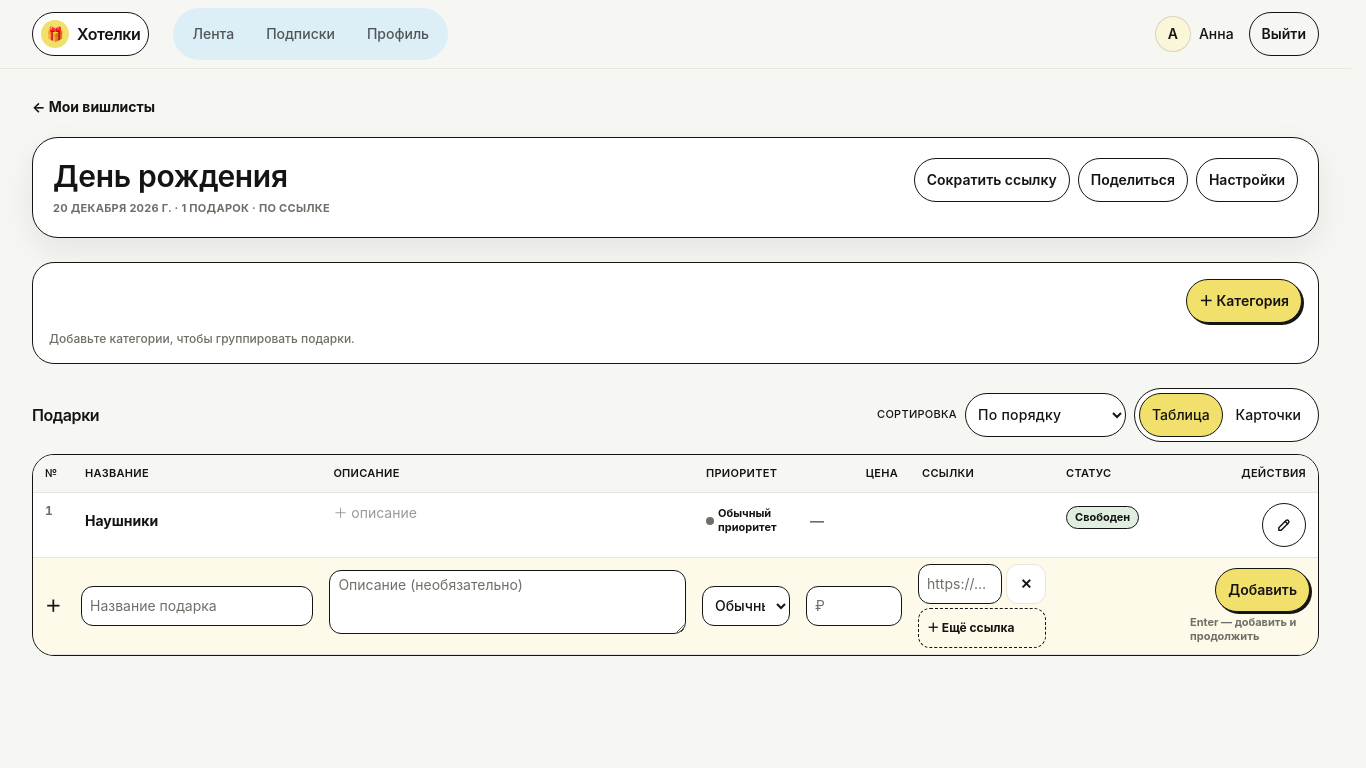
Test: строка добавления в таблице › добавляет подарок с двумя ссылками: «＋ Ещё ссылка» добавляет поле
Expected: the text "Наушники" is shown, x1=85 y1=511 x2=158 y2=531
Type "Плед" into the field named "Название нового подарка" at (197, 606), box x1=81 y1=586 x2=313 y2=626
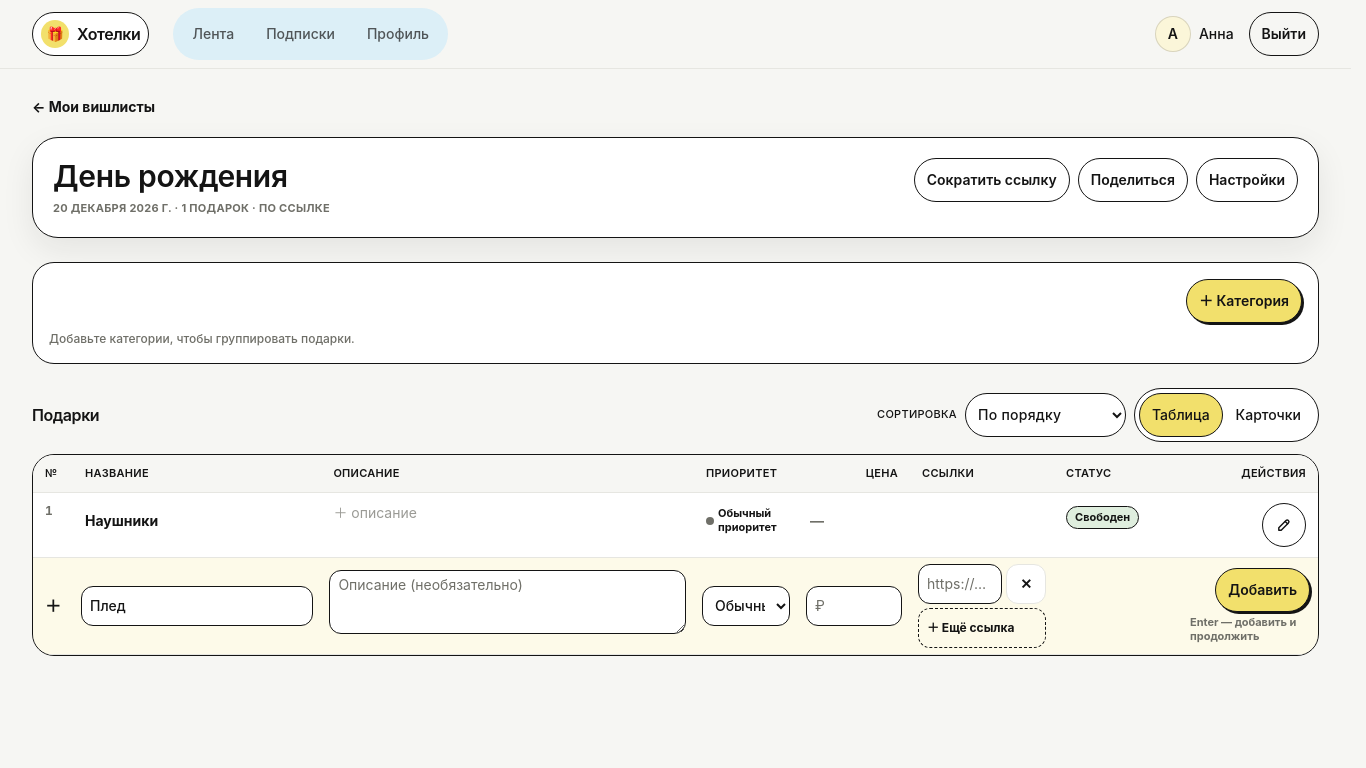
Type "https://shop-one.example/plaid" into the field named "Ссылка на товар 1" at (960, 584), box x1=918 y1=564 x2=1002 y2=604
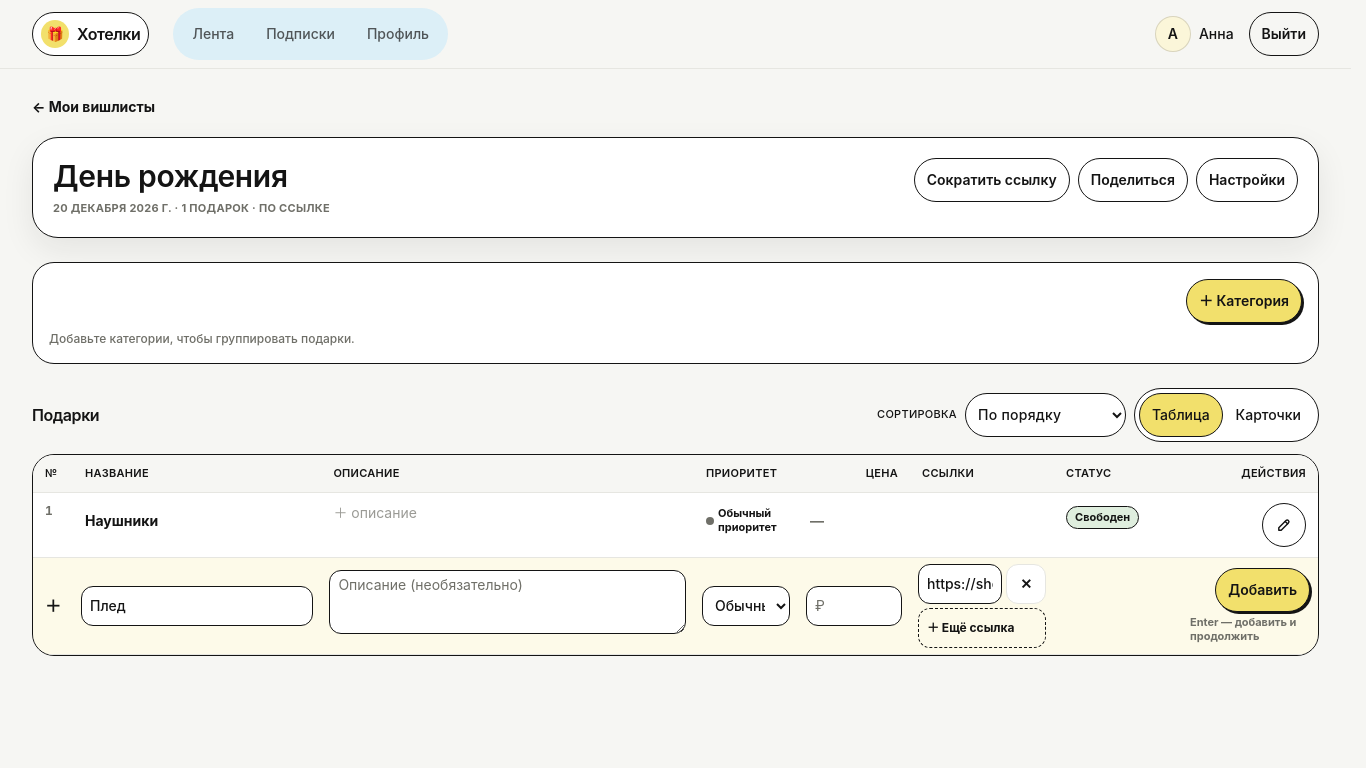
Click the button "＋ Ещё ссылка" at (982, 628), box x1=918 y1=608 x2=1046 y2=648
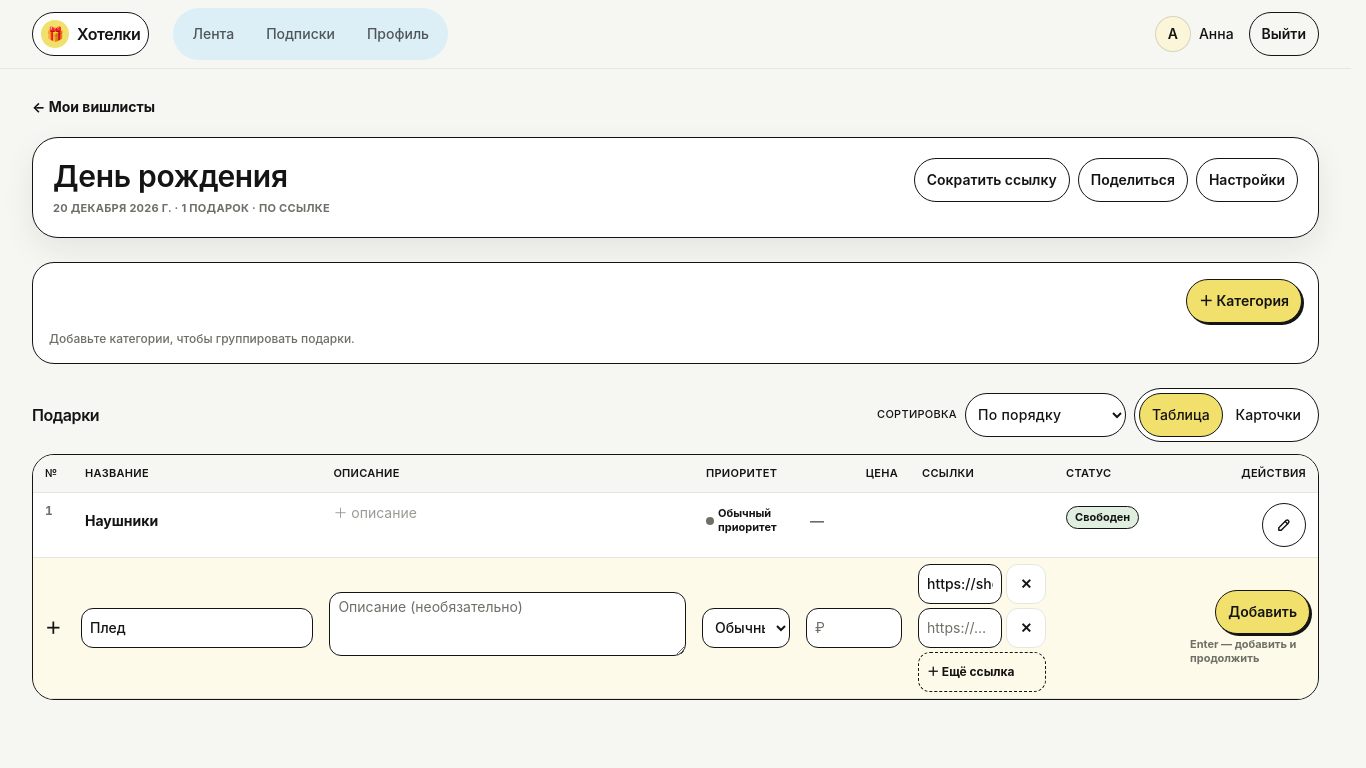
Type "https://shop-two.example/plaid" into the field named "Ссылка на товар 2" at (960, 628), box x1=918 y1=608 x2=1002 y2=648
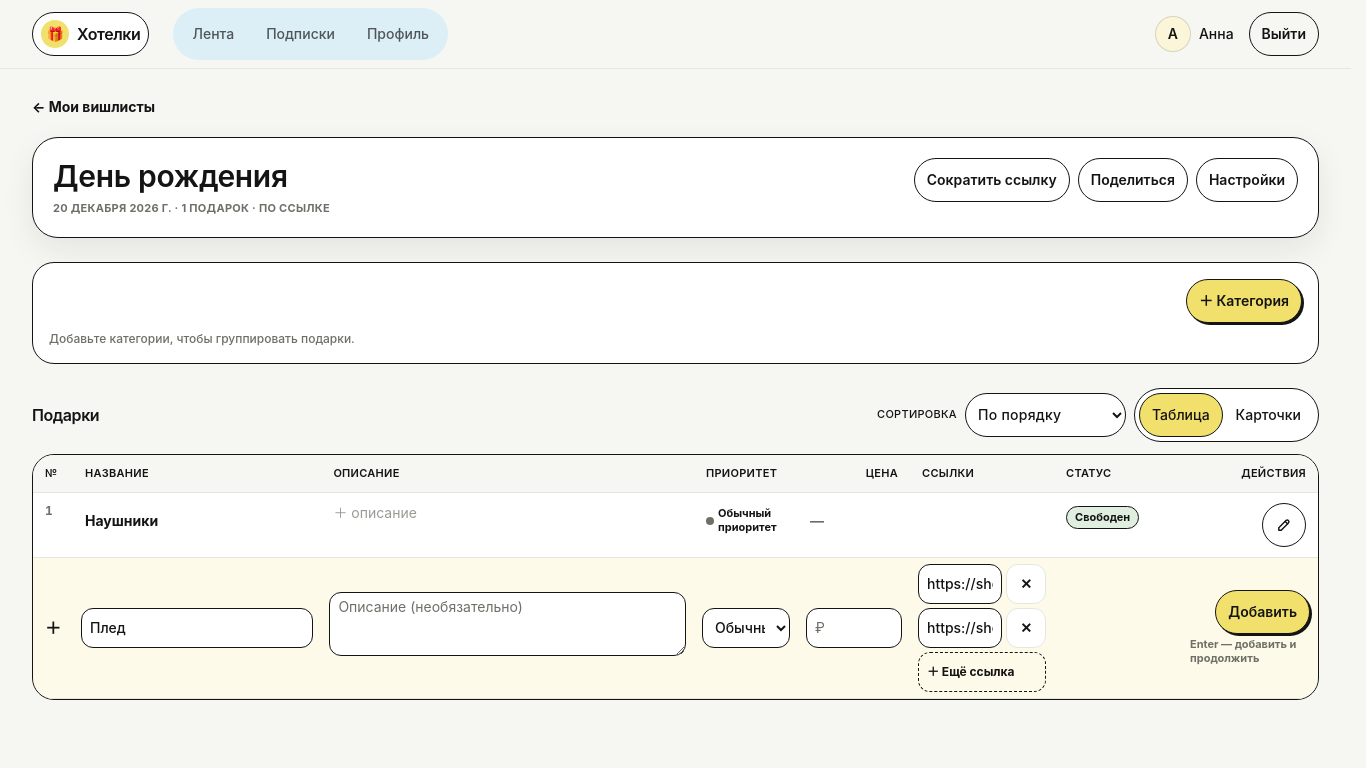
Click the button "Добавить" at (1263, 612), box x1=1215 y1=590 x2=1310 y2=634
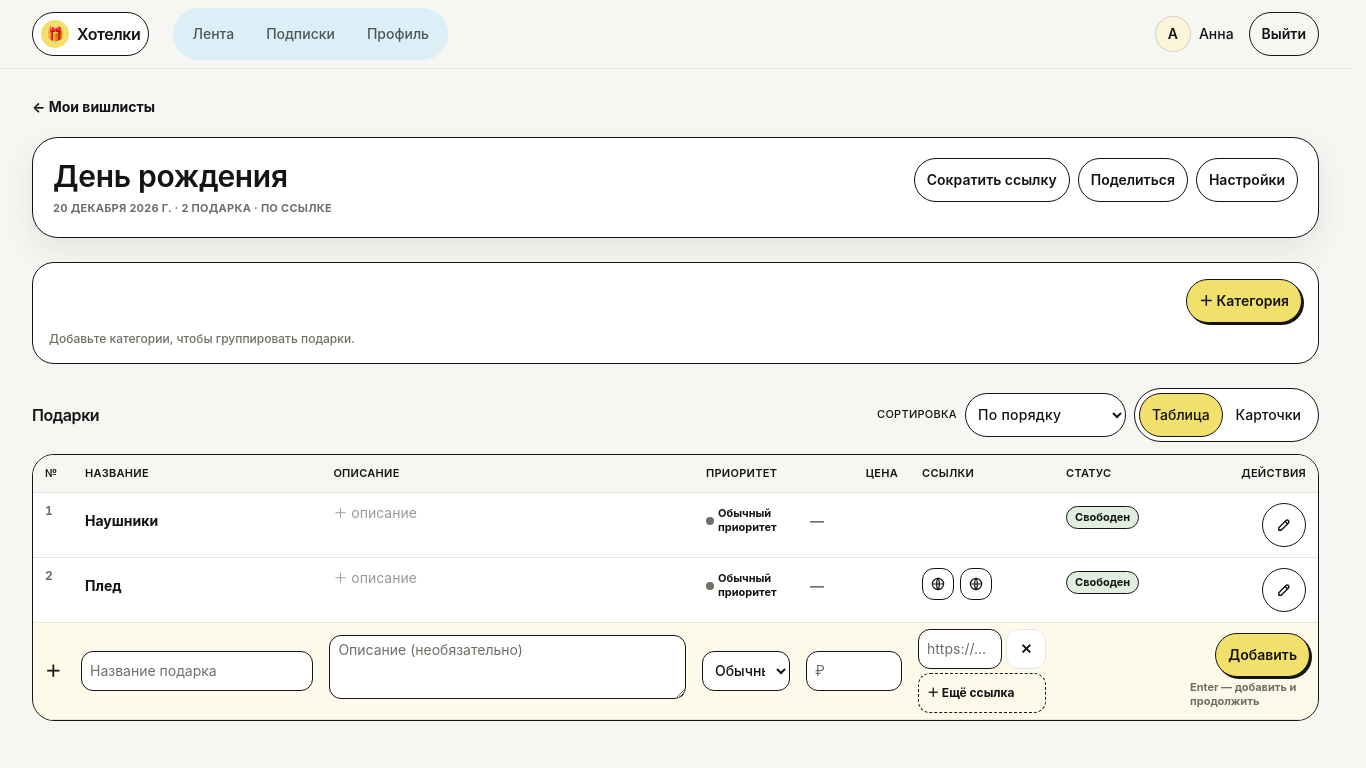
Expected: the text "Плед" is shown, x1=85 y1=576 x2=122 y2=596
